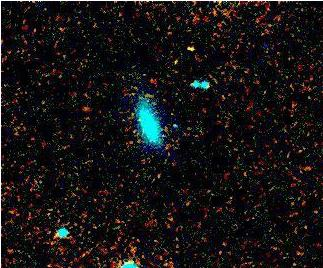star: (178, 35, 208, 65)
